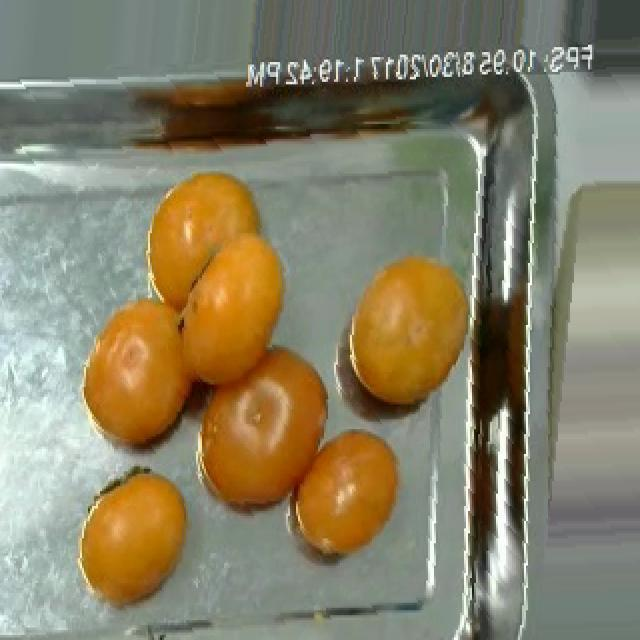Fruit: (172, 320, 334, 541), (130, 154, 300, 362), (68, 273, 214, 479), (334, 238, 478, 432), (66, 459, 206, 625), (274, 412, 414, 575)
